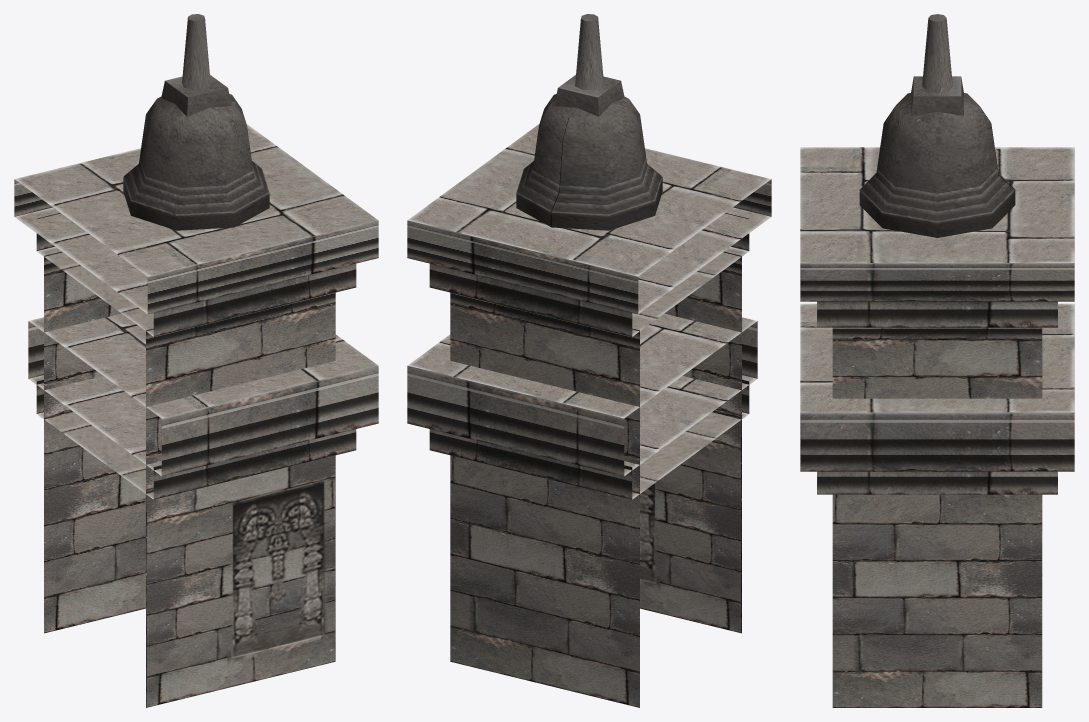
The model's file is Modul_B.FBX.
3 views of the same model, side by side, from view 1: azimuth 30°, elevation 25°; view 2: azimuth 150°, elevation 25°; view 3: azimuth 270°, elevation 25° (orthographic). The views are drawn at different scales.
Visible parts, largest first — view 1: Modul_B; view 2: Modul_B; view 3: Modul_B.
Boxes of the visible parts, bbox=[...] form: Modul_B: bbox=[14, 14, 378, 707]; Modul_B: bbox=[407, 14, 771, 707]; Modul_B: bbox=[800, 14, 1074, 707].
Bounding box in the file's own units: 0.8832 × 2.3 × 0.8832.
